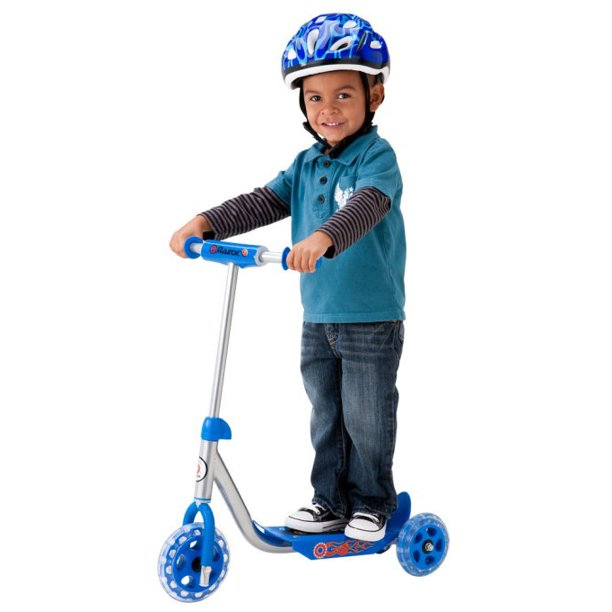scooter: (156, 233, 451, 603)
with helmet: (280, 9, 395, 147)
